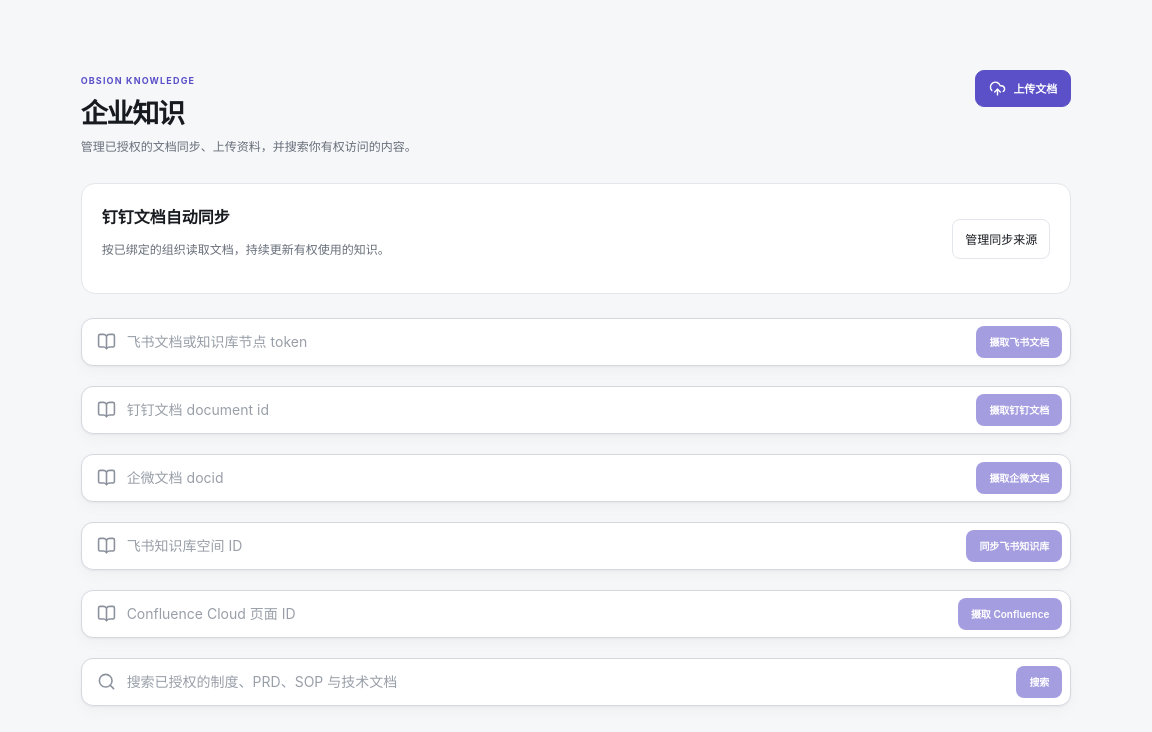
Test: KnowledgeView interactions › searches the trimmed authorized query and renders recorded provenance
Type "  支付超时  " into the field with placeholder "搜索已授权的制度、PRD、SOP 与技术文档" at (566, 682), box [125,659,1007,705]
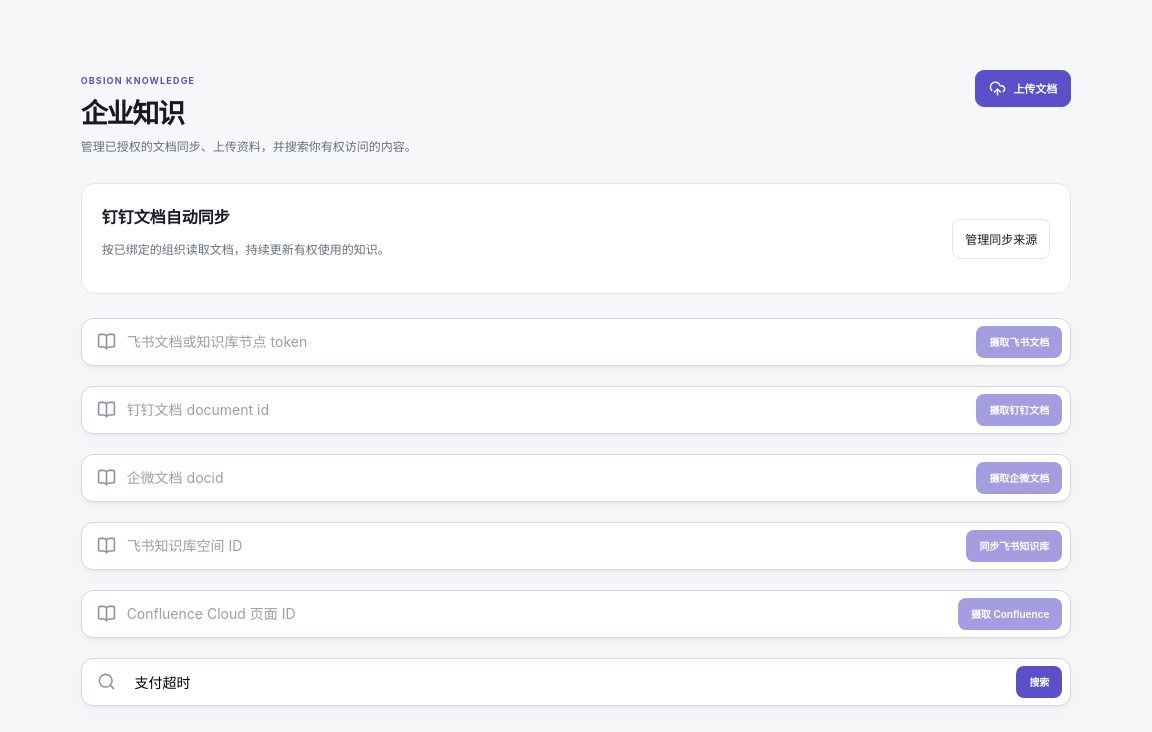
Click the button "搜索" at (1039, 682), box [1016,666,1062,698]
(page scrolled)
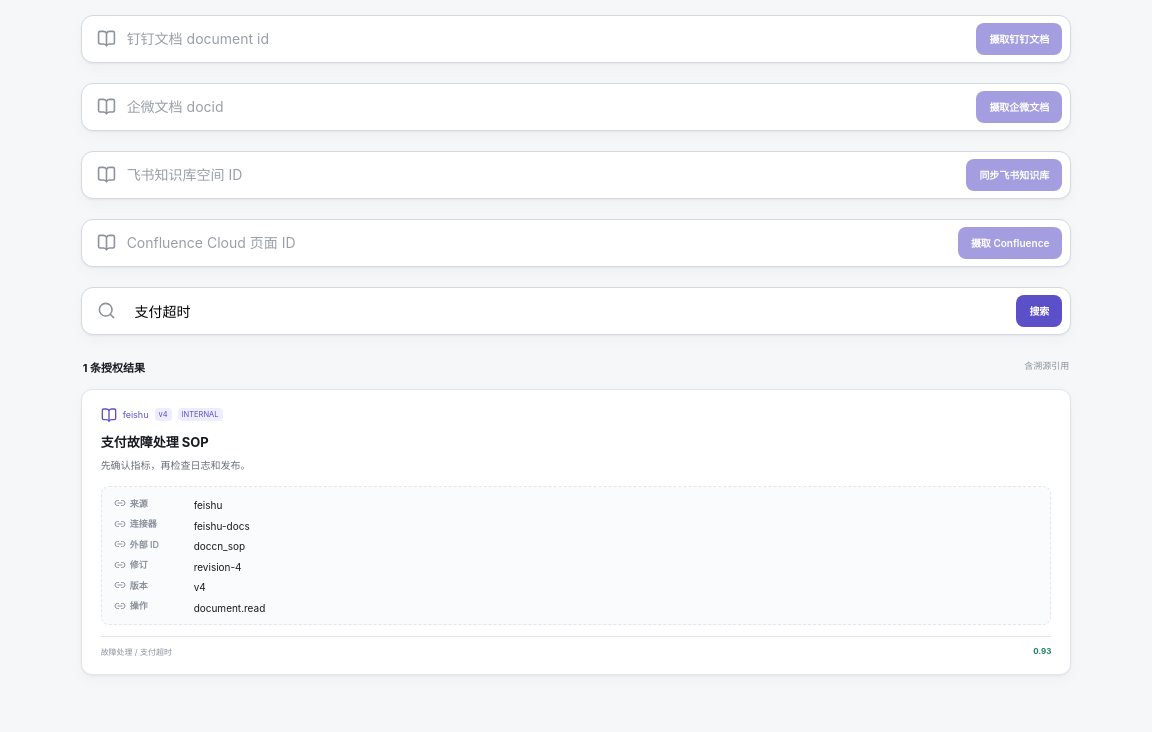
Expected: the heading "支付故障处理 SOP" is shown, [101,434,209,450]
Expected: the text "doccn_sop" is shown, [194,540,245,552]
Expected: the text "revision-4" is shown, [194,561,242,573]
